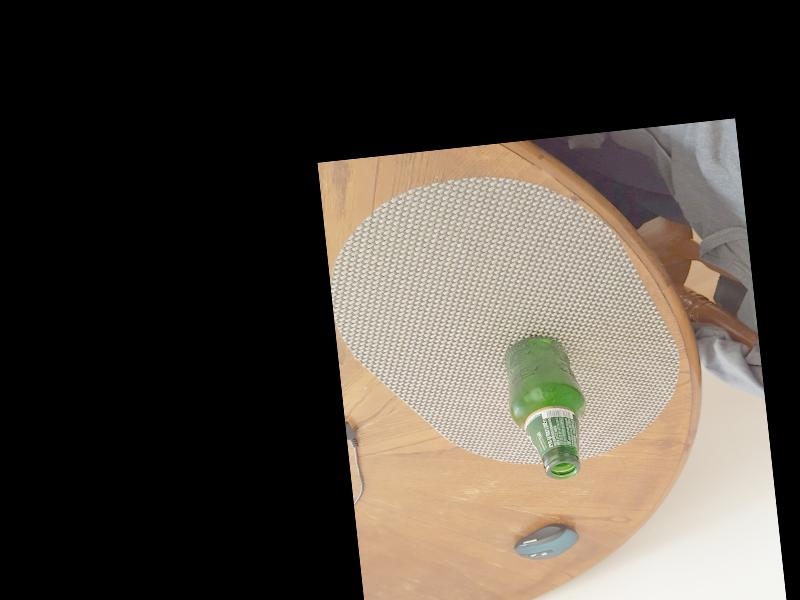Beer: (498, 331, 595, 485)
